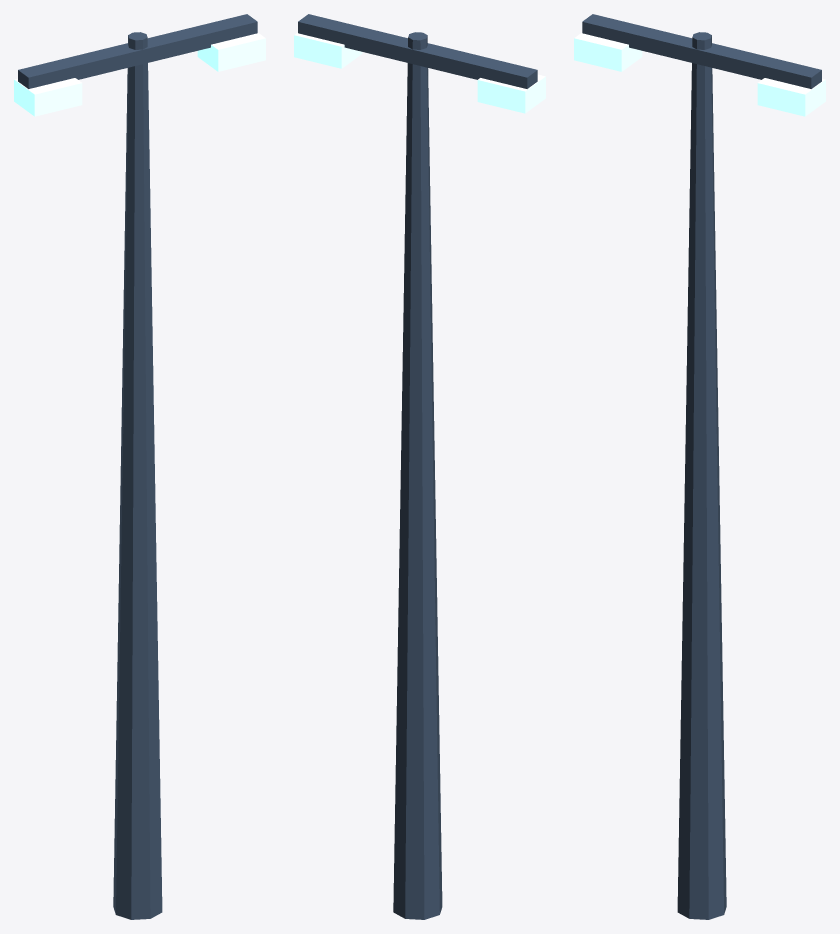
File: streetlight.glb
3 views of the same model, side by side, from view 1: azimuth 30°, elevation 25°; view 2: azimuth 150°, elevation 25°; view 3: azimuth 330°, elevation 25° (orthographic).
Visible parts, largest first — view 1: streetlight; view 2: streetlight; view 3: streetlight.
Boxes of the visible parts, box(x1,y1,x2,y2) form: streetlight: box(14, 14, 265, 919); streetlight: box(294, 14, 545, 919); streetlight: box(574, 14, 825, 919).
Size of the model in its own units: 2.52 by 9.1 by 0.48.
